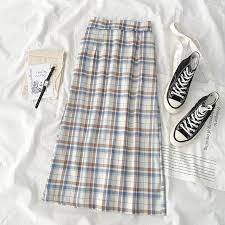skirt: (53, 16, 166, 215)
